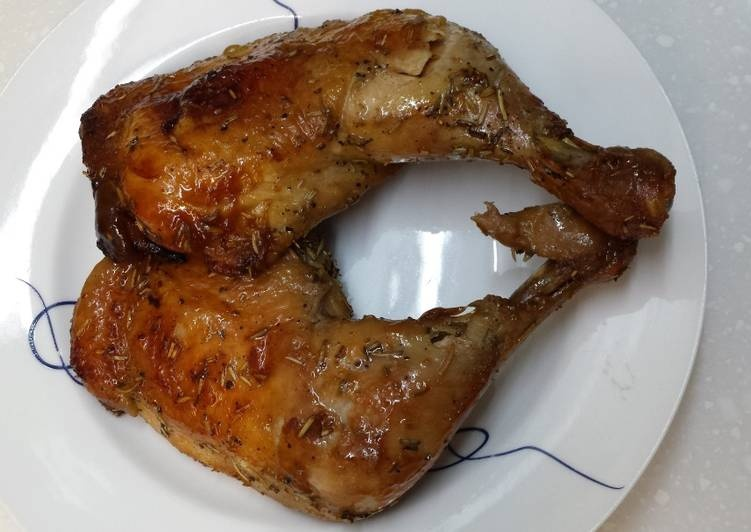ayam_goreng: (53, 205, 656, 520), (59, 8, 694, 261)
